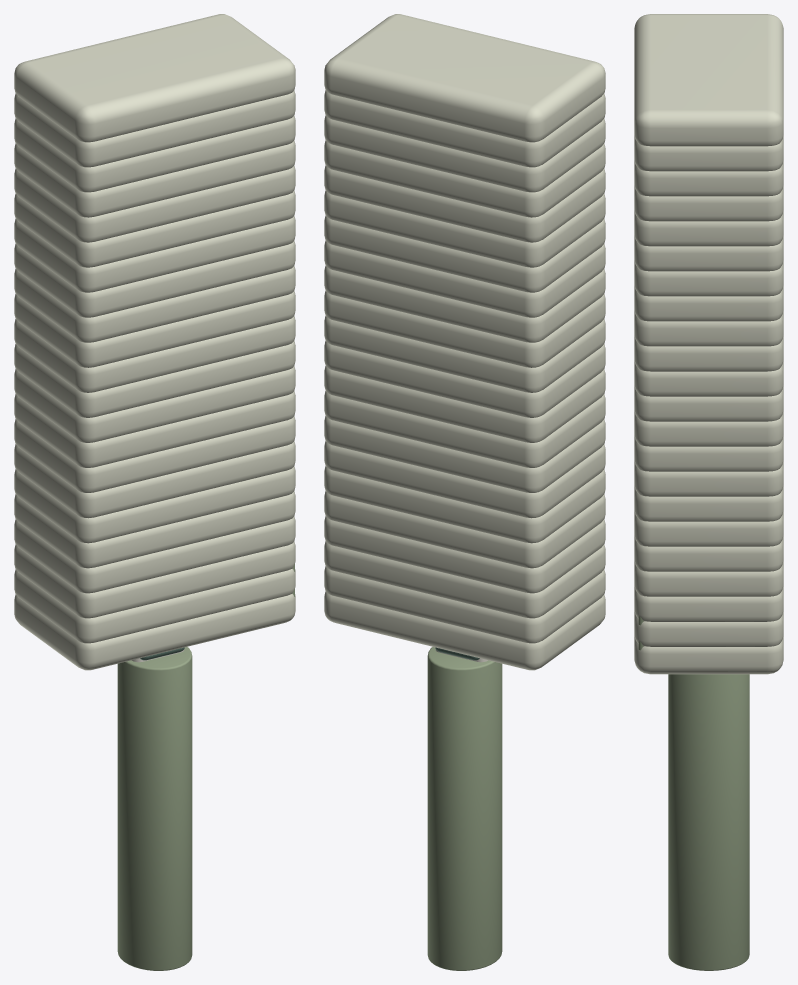
Rendered from dusting-sleeve.glb.
The picture shows the model from 3 angles, left to right: view 1: azimuth 30°, elevation 25°; view 2: azimuth 150°, elevation 25°; view 3: azimuth 270°, elevation 25°; orthographic projection.
Parts seen in each view (by area): view 1: Duster grip, Microfiber sleeve ridge.021, Microfiber sleeve ridge, Microfiber sleeve ridge.018, Microfiber sleeve ridge.013, Microfiber sleeve ridge.014, Microfiber sleeve ridge.017, Microfiber sleeve ridge.012, Microfiber sleeve ridge.016, Microfiber sleeve ridge.019, Microfiber sleeve ridge.020, Microfiber sleeve ridge.010 (+11 smaller); view 2: Duster grip, Microfiber sleeve ridge.021, Microfiber sleeve ridge, Microfiber sleeve ridge.018, Microfiber sleeve ridge.013, Microfiber sleeve ridge.014, Microfiber sleeve ridge.017, Microfiber sleeve ridge.001, Microfiber sleeve ridge.012, Microfiber sleeve ridge.016, Microfiber sleeve ridge.019, Microfiber sleeve ridge.020 (+11 smaller); view 3: Duster grip, Microfiber sleeve ridge.021, Microfiber sleeve ridge, Microfiber sleeve ridge.009, Microfiber sleeve ridge.010, Microfiber sleeve ridge.011, Microfiber sleeve ridge.012, Microfiber sleeve ridge.013, Microfiber sleeve ridge.003, Microfiber sleeve ridge.004, Microfiber sleeve ridge.005, Microfiber sleeve ridge.006 (+11 smaller).
Part boxes in pixels (x1,y1,x2,y2): Duster grip: (117,647,192,970); Microfiber sleeve ridge.021: (14,14,295,142); Microfiber sleeve ridge: (14,594,295,670); Microfiber sleeve ridge.018: (14,140,295,217); Microfiber sleeve ridge.013: (14,266,295,342); Microfiber sleeve ridge.014: (14,240,295,317); Microfiber sleeve ridge.017: (14,165,295,242); Microfiber sleeve ridge.012: (14,291,295,367); Microfiber sleeve ridge.016: (14,190,295,267); Microfiber sleeve ridge.019: (14,115,295,192); Microfiber sleeve ridge.020: (14,90,295,167); Microfiber sleeve ridge.010: (14,341,295,417); Duster grip: (427,647,502,970); Microfiber sleeve ridge.021: (324,14,605,142); Microfiber sleeve ridge: (324,591,605,670); Microfiber sleeve ridge.018: (324,140,605,217); Microfiber sleeve ridge.013: (324,266,605,342); Microfiber sleeve ridge.014: (324,240,605,317); Microfiber sleeve ridge.017: (324,165,605,242); Microfiber sleeve ridge.001: (324,566,605,643); Microfiber sleeve ridge.012: (324,291,605,367); Microfiber sleeve ridge.016: (324,190,605,267); Microfiber sleeve ridge.019: (324,115,605,192); Microfiber sleeve ridge.020: (324,90,605,167); Duster grip: (668,674,749,970); Microfiber sleeve ridge.021: (634,14,783,146); Microfiber sleeve ridge: (634,636,783,674); Microfiber sleeve ridge.009: (634,410,783,446); Microfiber sleeve ridge.010: (634,385,783,421); Microfiber sleeve ridge.011: (634,360,783,396); Microfiber sleeve ridge.012: (634,335,783,371); Microfiber sleeve ridge.013: (634,310,783,346); Microfiber sleeve ridge.003: (634,561,783,596); Microfiber sleeve ridge.004: (634,535,783,571); Microfiber sleeve ridge.005: (634,510,783,546); Microfiber sleeve ridge.006: (634,485,783,521).
Size of the model in its own units: 0.11 by 0.43 by 0.065.
